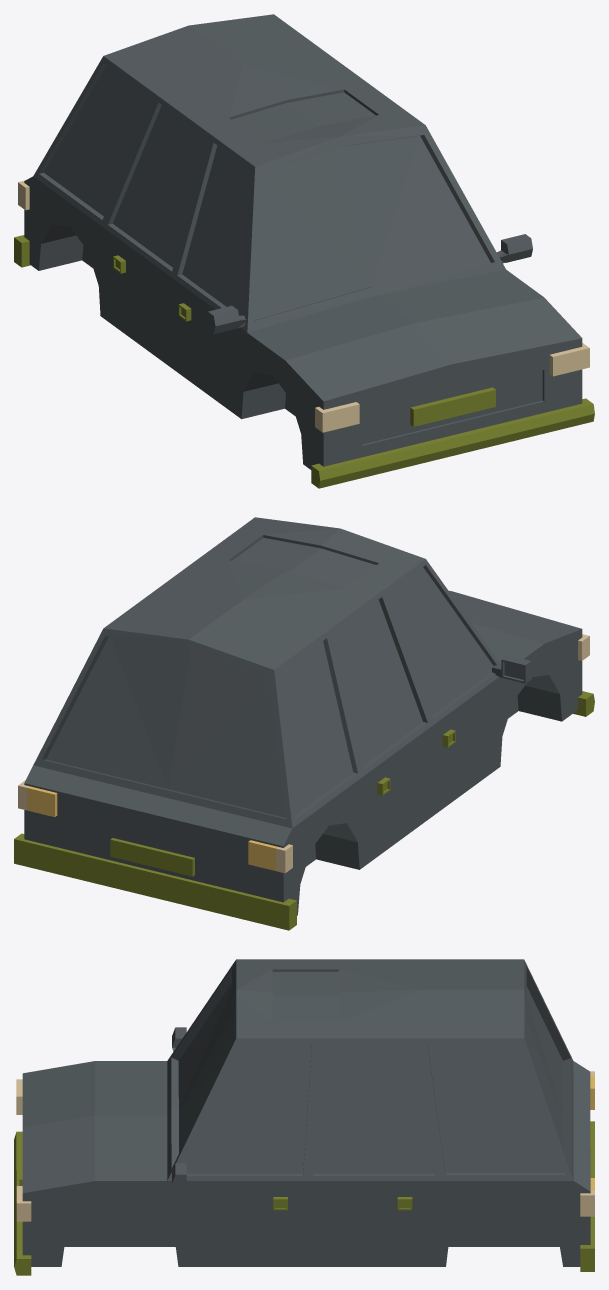
File: Car_03.fbx
3 views of the same model, one above another, from view 1: azimuth 30°, elevation 25°; view 2: azimuth 150°, elevation 25°; view 3: azimuth 270°, elevation 25° (orthographic). The views are drawn at different scales.
Visible parts, largest first — view 1: Car_03; view 2: Car_03; view 3: Car_03.
Part boxes in pixels (x1=…): Car_03: x1=14, y1=14, x2=594, y2=488; Car_03: x1=14, y1=517, x2=594, y2=930; Car_03: x1=14, y1=959, x2=594, y2=1275.
Size of the model in its own units: 1.98 by 1.39 by 3.3.
